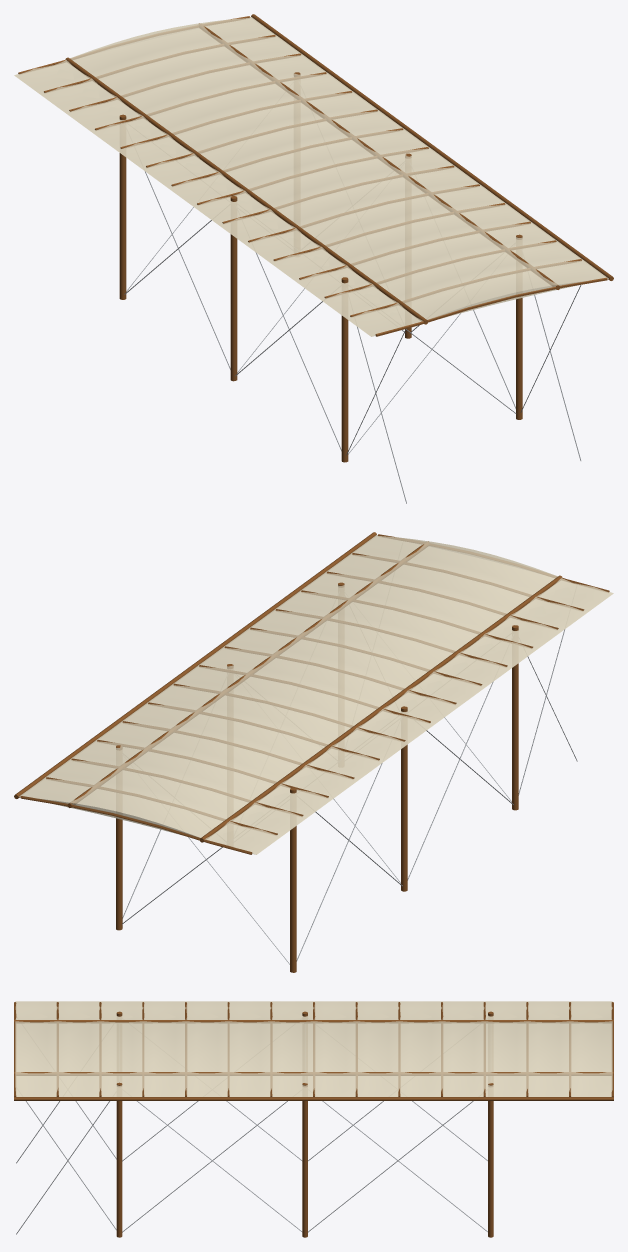
File: aeroplan-krylo-vr.glb
3 views of the same model, one above another, from view 1: azimuth 30°, elevation 25°; view 2: azimuth 150°, elevation 25°; view 3: azimuth 270°, elevation 25° (orthographic). The views are drawn at different scales.
Visible parts, largest first — view 1: aeroplan_krylo_vr; view 2: aeroplan_krylo_vr; view 3: aeroplan_krylo_vr.
Boxes of the visible parts, x1,y1,x2,y2 form: aeroplan_krylo_vr: (14, 14, 613, 503); aeroplan_krylo_vr: (14, 532, 613, 972); aeroplan_krylo_vr: (14, 1001, 613, 1237).
Bounding box in the file's own units: 2.01 × 1.49 × 5.17.
